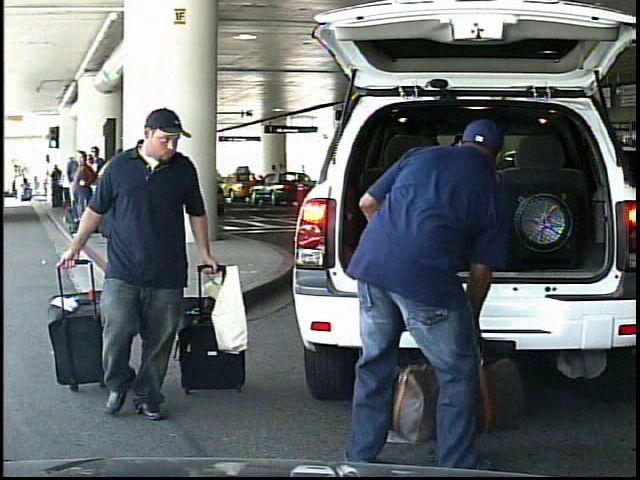person: (335, 106, 521, 476), (76, 110, 233, 431), (274, 162, 285, 196), (14, 170, 25, 201)
